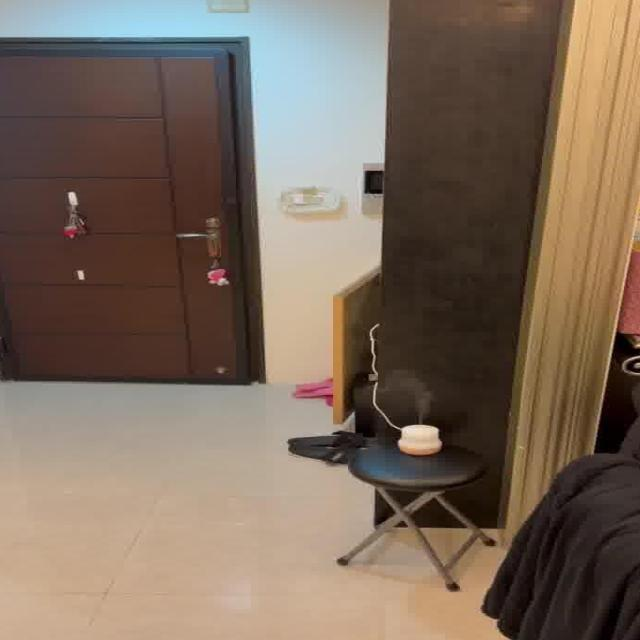fire: (391, 367, 444, 420)
